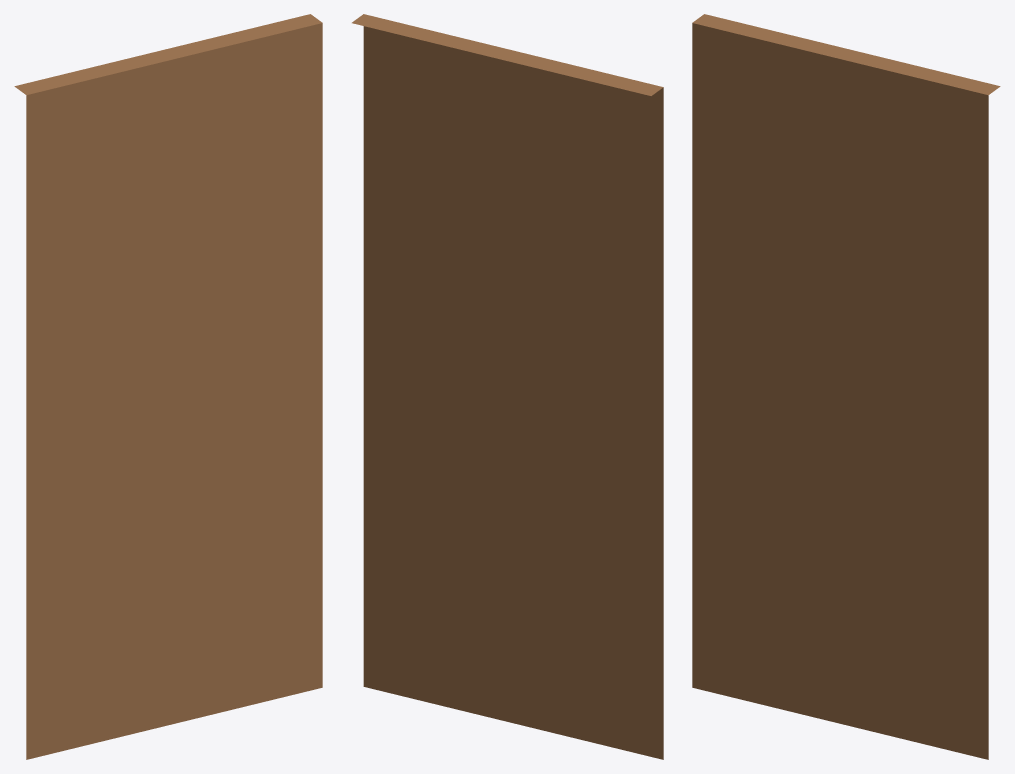
Rendered from M_Wall350x750Brown100.fbx.
The picture shows the model from 3 angles, left to right: view 1: azimuth 30°, elevation 25°; view 2: azimuth 150°, elevation 25°; view 3: azimuth 330°, elevation 25°; orthographic projection.
Visible parts, largest first — view 1: M_Wall350x750Brown100; view 2: M_Wall350x750Brown100; view 3: M_Wall350x750Brown100.
Boxes of the visible parts, x1=… form: M_Wall350x750Brown100: x1=14, y1=14, x2=322, y2=759; M_Wall350x750Brown100: x1=352, y1=14, x2=663, y2=759; M_Wall350x750Brown100: x1=692, y1=14, x2=1000, y2=759.
Bounding box in the file's own units: 350 × 25 × 750.
